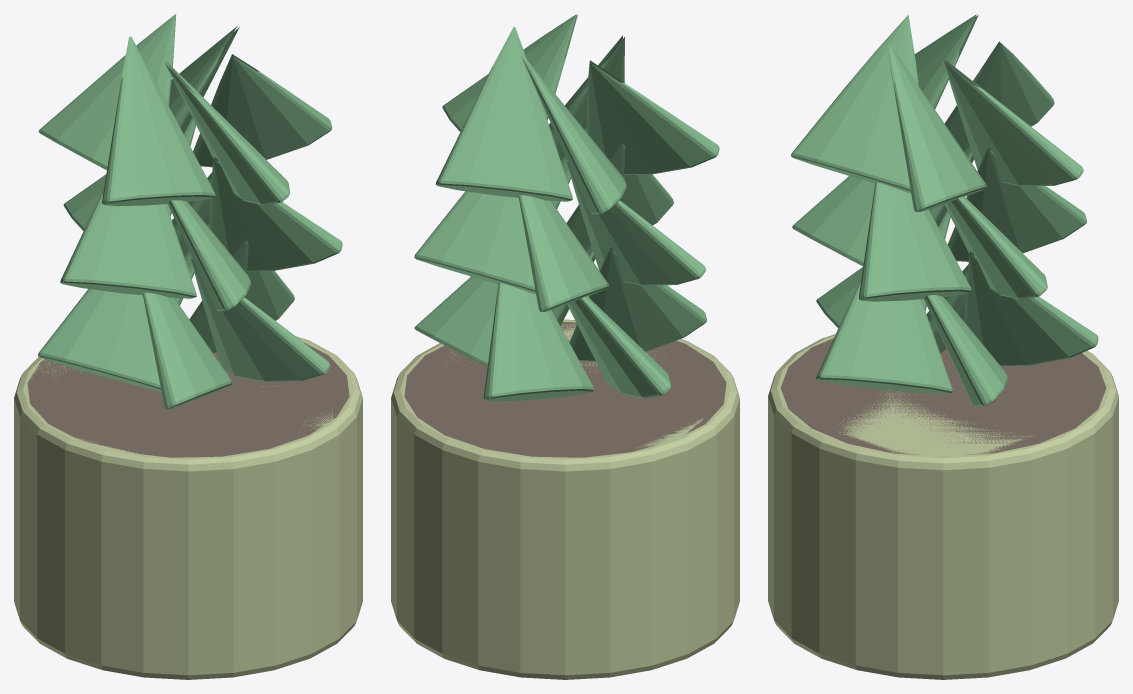
File: meeting_rooms___private_spaces_catalog_64.glb
The picture shows the model from 3 angles, left to right: view 1: azimuth 30°, elevation 25°; view 2: azimuth 150°, elevation 25°; view 3: azimuth 270°, elevation 25°; orthographic projection.
Parts seen in each view (by area): view 1: Cylinder; view 2: Cylinder; view 3: Cylinder.
Boxes of the visible parts, bbox=[...] form: Cylinder: bbox=[14, 14, 362, 679]; Cylinder: bbox=[391, 14, 739, 679]; Cylinder: bbox=[768, 14, 1118, 679].
Size of the model in its own units: 0.546 by 0.9875 by 0.546.
